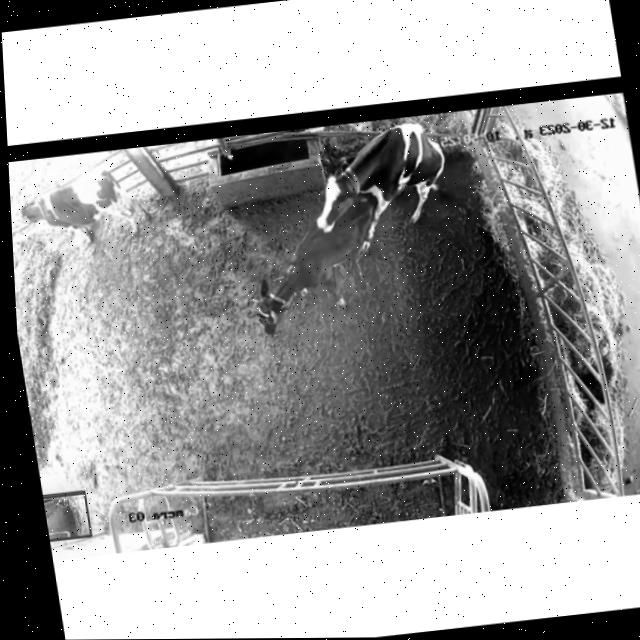ride: (301, 114, 475, 267)
